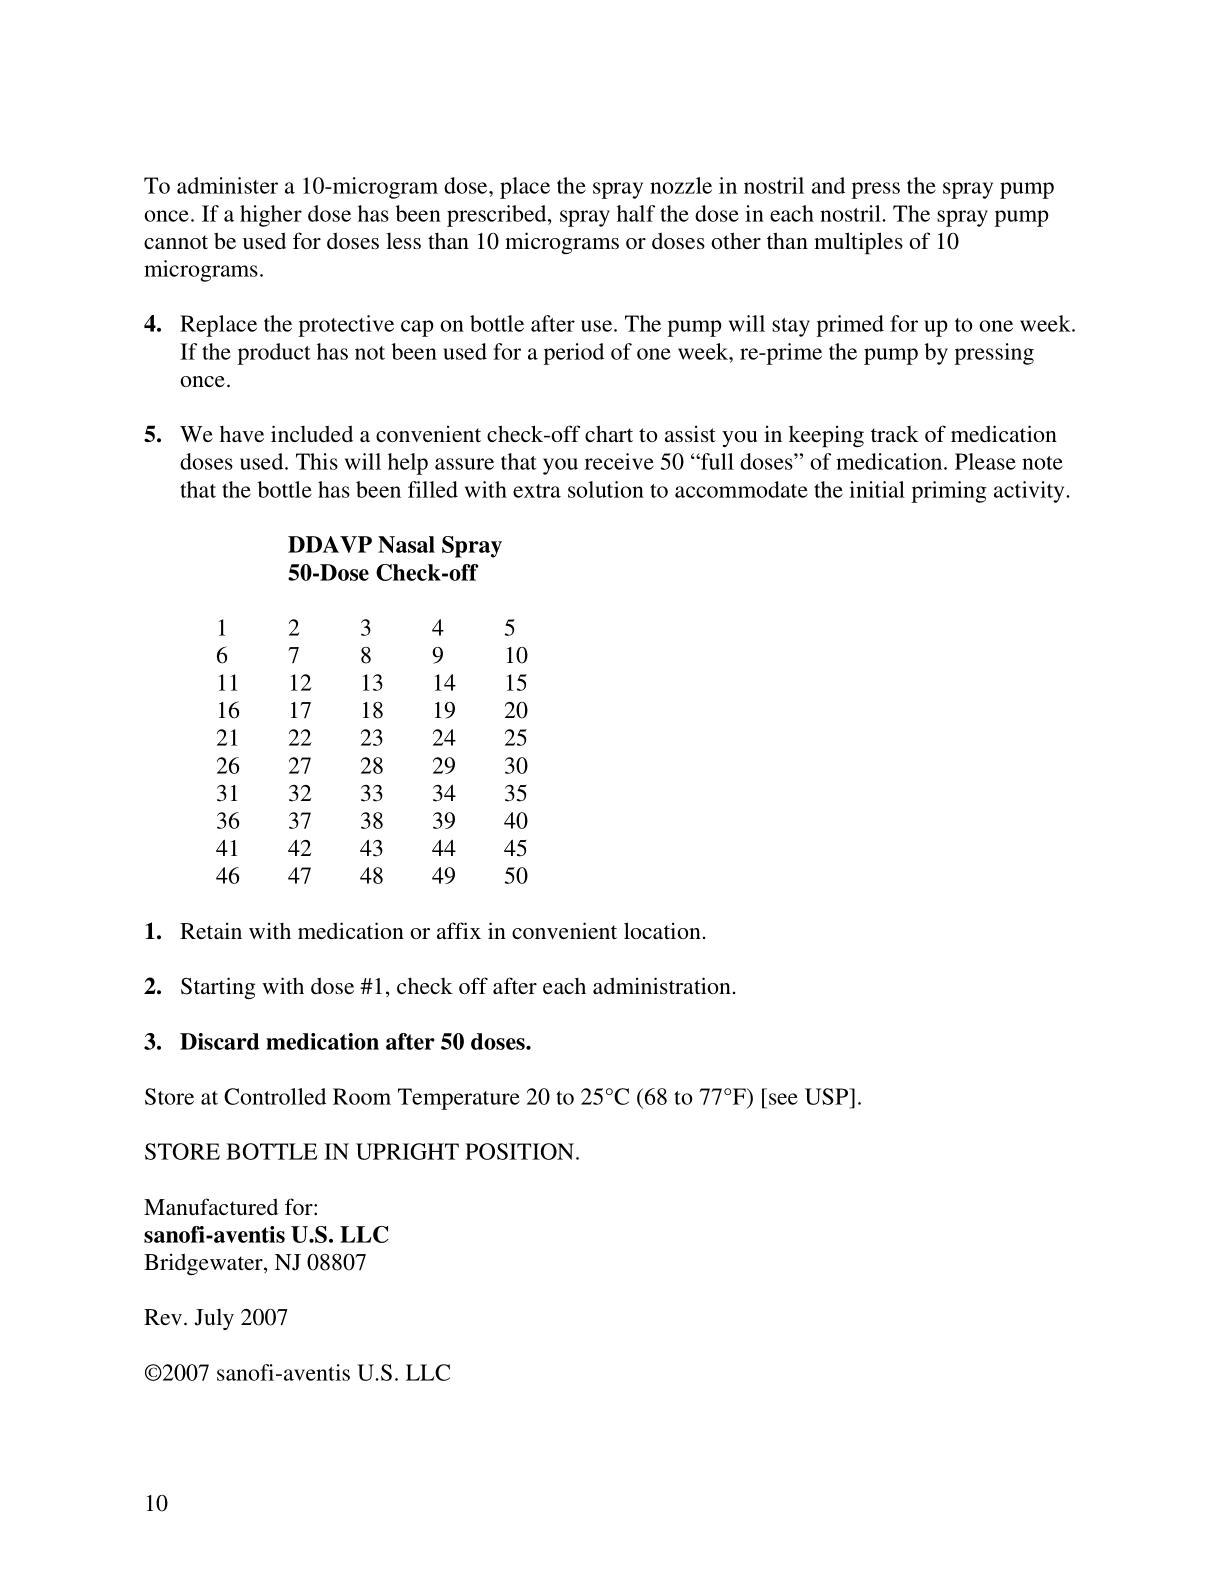nolines: (206, 606, 534, 890)
